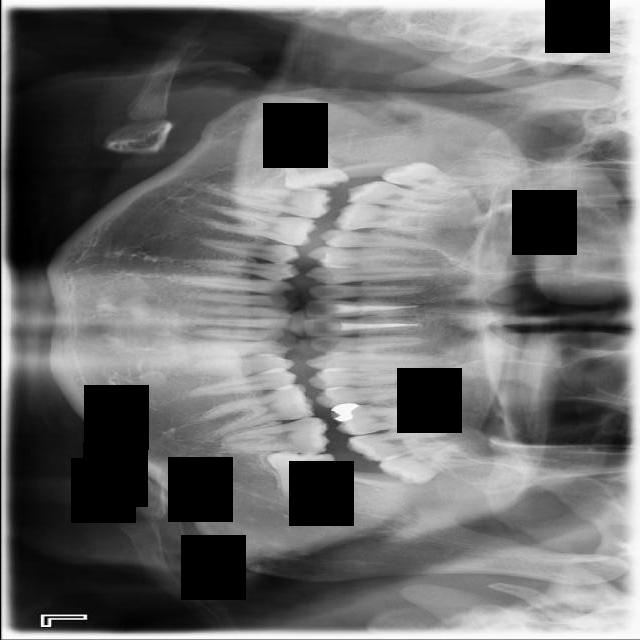3M ESPE Implant: (381, 155, 482, 200)
52: (327, 397, 380, 441), (303, 317, 348, 337), (305, 299, 350, 318)
73: (349, 315, 423, 335), (347, 302, 416, 317), (40, 608, 50, 615)
BioHorizons Implant: (345, 425, 453, 466)
BioLife Implant: (378, 441, 487, 490)
Biomet 3i Implant: (265, 449, 337, 501)
Blue Sky Bio Implant: (226, 413, 330, 455)
Caries: (346, 179, 459, 214)
Implant: (226, 185, 333, 219)
Keystone Dental Implant: (278, 141, 350, 198)
